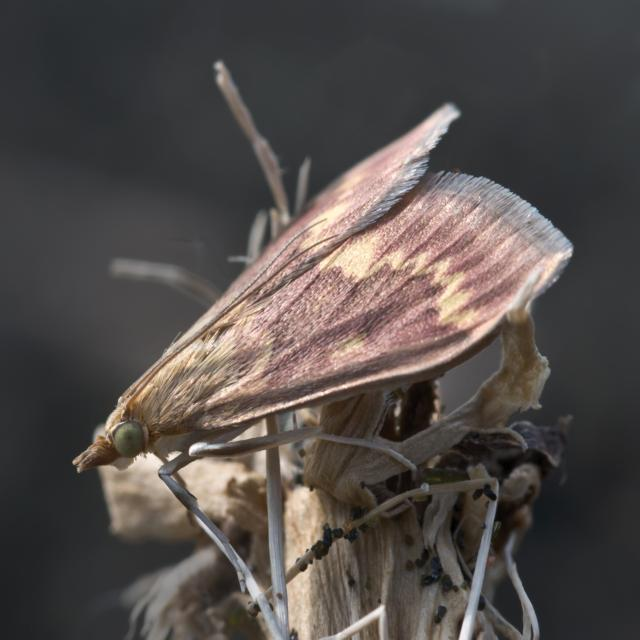cornborer-Adult-: (65, 84, 583, 491)
